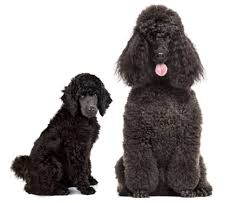Poodle: (114, 4, 230, 199), (10, 52, 111, 197)
